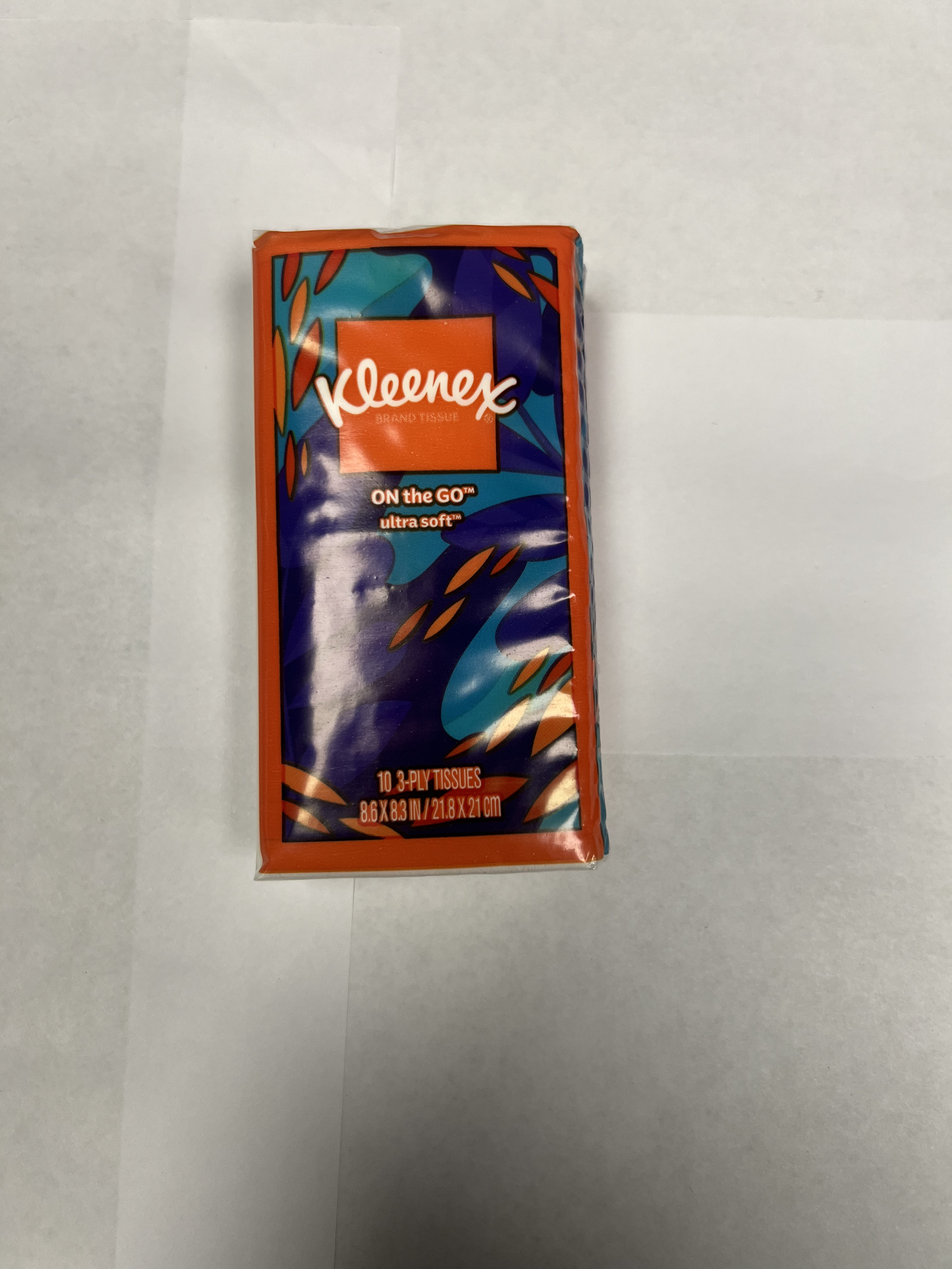packaged: (244, 218, 609, 888)
